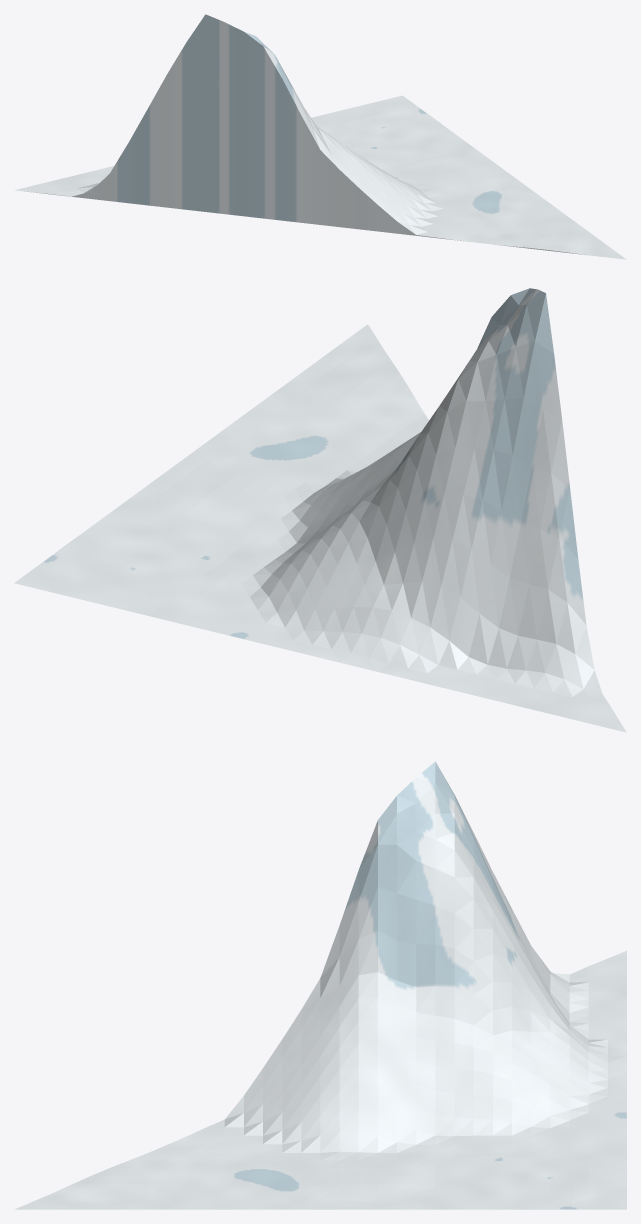
File: Snow_Mountains_01_SE.obj
The picture shows the model from 3 angles, top to bottom: view 1: azimuth 30°, elevation 25°; view 2: azimuth 150°, elevation 25°; view 3: azimuth 270°, elevation 25°; orthographic projection. The views are drawn at different scales.
Bounding box in the file's own units: 10 × 4.86 × 10.
1 material, 1 textured.
